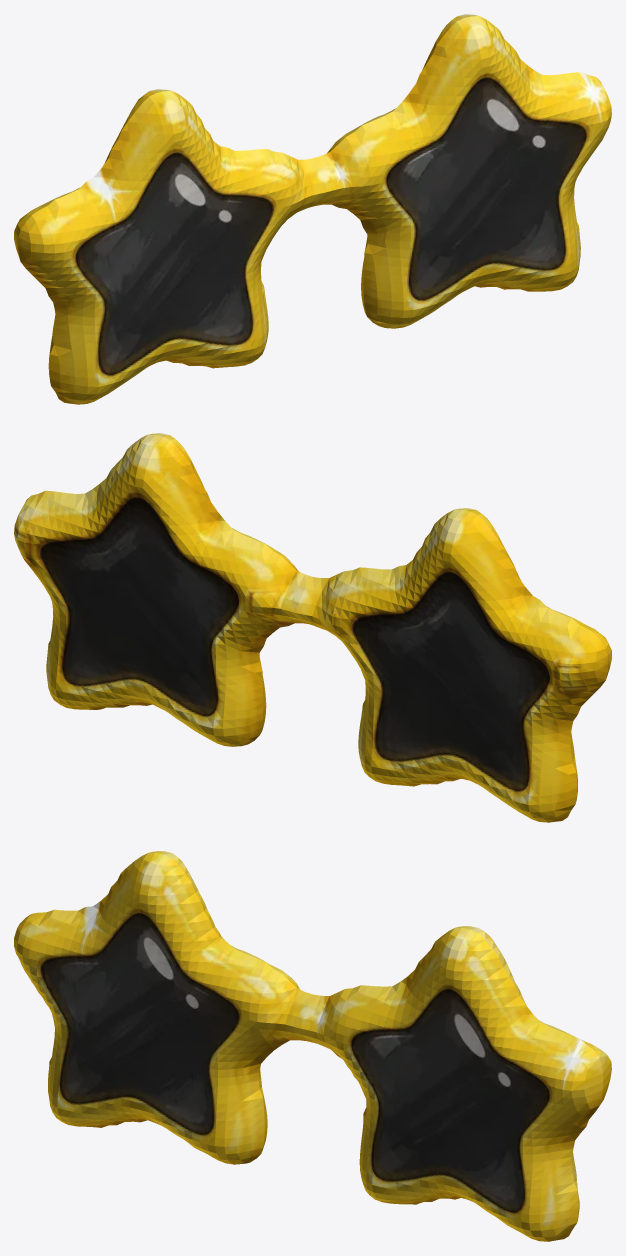
The model's file is star_shades.glb.
3 renders of one model, top to bottom at view 1: azimuth 30°, elevation 25°; view 2: azimuth 150°, elevation 25°; view 3: azimuth 330°, elevation 25°, orthographic.
Parts seen in each view (by area): view 1: geometry_0; view 2: geometry_0; view 3: geometry_0.
Part boxes in pixels (box(x1,y1,x2,y2)): geometry_0: box(14, 14, 611, 404); geometry_0: box(14, 433, 611, 822); geometry_0: box(14, 851, 611, 1241).
Bounding box in the file's own units: 0.9793 × 0.4637 × 0.1206.
1 material, 1 textured.
